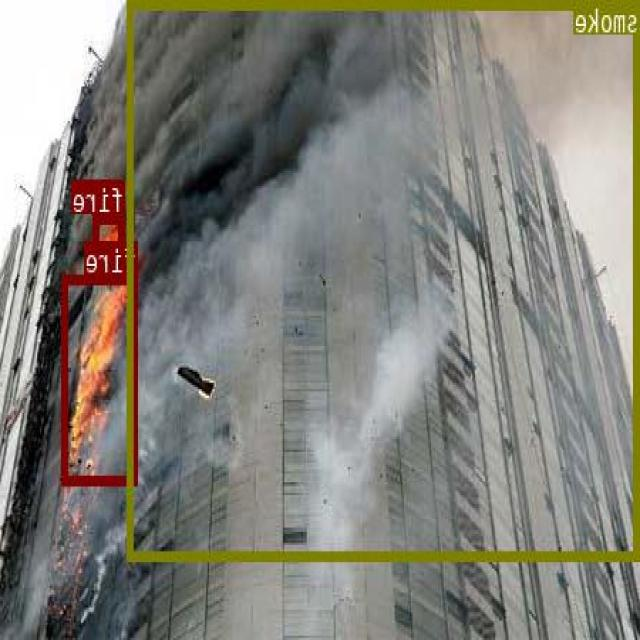fire: (63, 272, 139, 483), (94, 212, 126, 274)
smoke: (128, 0, 640, 560)
